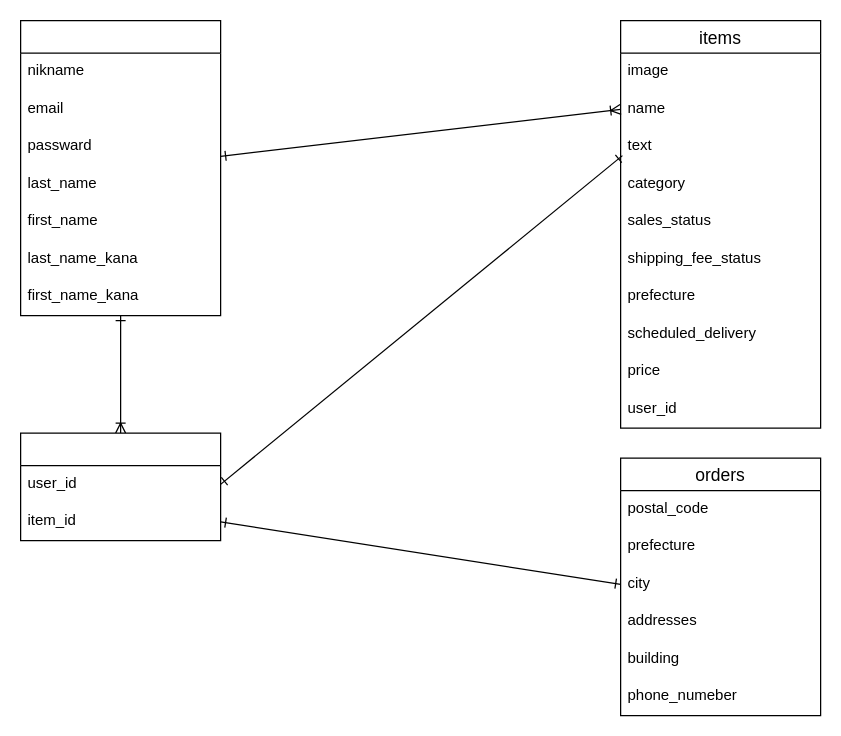
Some shapes in this 841 by 736 pixel diagram are drawn without their labels. The shapes that lost their labels are listed below. From the top down, each one's box as (x1, y1, x2, y2) in pixels, then its label:
(19, 19, 221, 316): users
(19, 432, 221, 541): purchases
